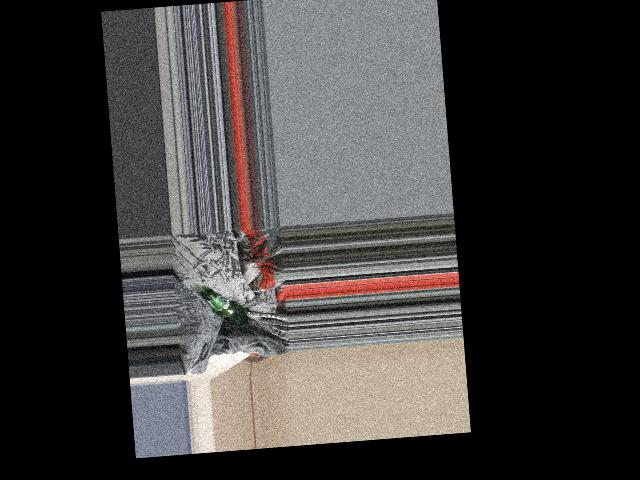beer: (201, 285, 248, 327)
